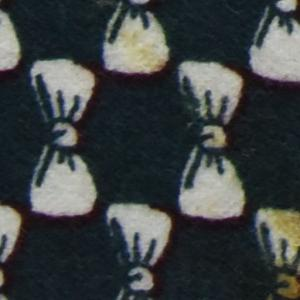Stain: (266, 202, 300, 300), (112, 25, 172, 77)
